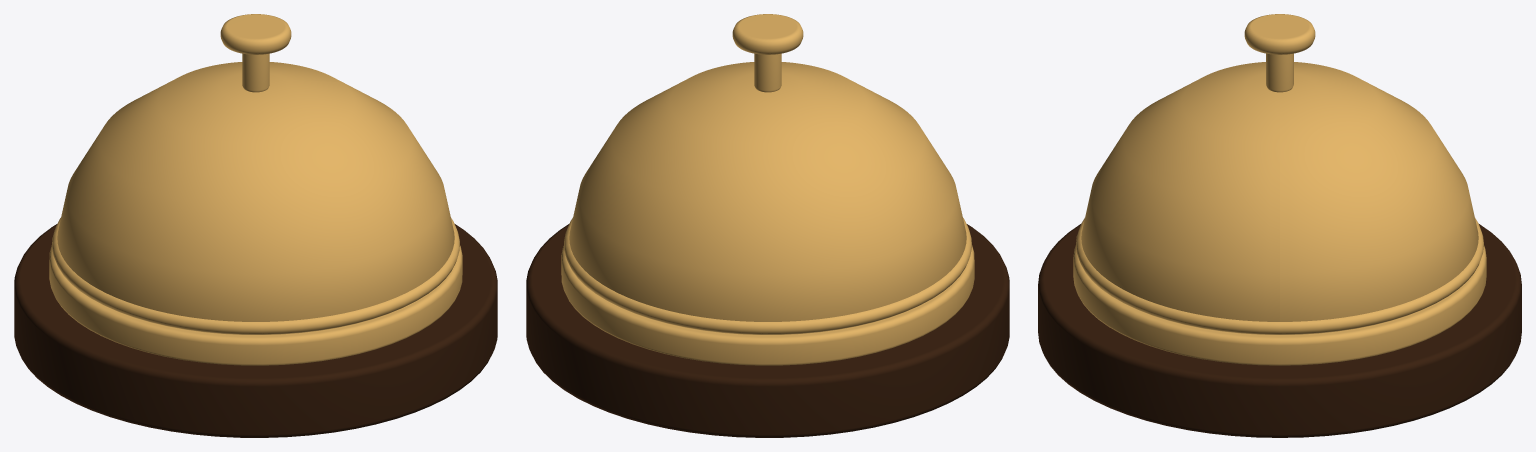
Rendered from service-bell.glb.
3 views of the same model, side by side, from view 1: azimuth 30°, elevation 25°; view 2: azimuth 150°, elevation 25°; view 3: azimuth 270°, elevation 25° (orthographic).
Parts seen in each view (by area): view 1: Bell polished brass dome, Bell walnut plinth, Bell brass base, Bell lip, Bell button cap, Bell button stem; view 2: Bell polished brass dome, Bell walnut plinth, Bell brass base, Bell lip, Bell button cap, Bell button stem; view 3: Bell polished brass dome, Bell walnut plinth, Bell brass base, Bell lip, Bell button cap, Bell button stem.
Boxes of the visible parts, left/top/right/bottom form: Bell polished brass dome: left=57, top=62, right=454, bottom=321; Bell walnut plinth: left=14, top=224, right=497, bottom=437; Bell brass base: left=49, top=245, right=462, bottom=365; Bell lip: left=52, top=218, right=459, bottom=334; Bell button cap: left=220, top=14, right=291, bottom=54; Bell button stem: left=242, top=53, right=269, bottom=92; Bell polished brass dome: left=569, top=62, right=966, bottom=321; Bell walnut plinth: left=526, top=224, right=1009, bottom=437; Bell brass base: left=561, top=245, right=974, bottom=365; Bell lip: left=564, top=218, right=971, bottom=334; Bell button cap: left=732, top=14, right=803, bottom=54; Bell button stem: left=754, top=53, right=781, bottom=92; Bell polished brass dome: left=1081, top=62, right=1478, bottom=321; Bell walnut plinth: left=1038, top=224, right=1521, bottom=437; Bell brass base: left=1073, top=245, right=1486, bottom=365; Bell lip: left=1076, top=218, right=1483, bottom=334; Bell button cap: left=1244, top=14, right=1315, bottom=54; Bell button stem: left=1266, top=53, right=1293, bottom=92.
Bounding box in the file's own units: 1.92 × 1.37 × 1.92.
